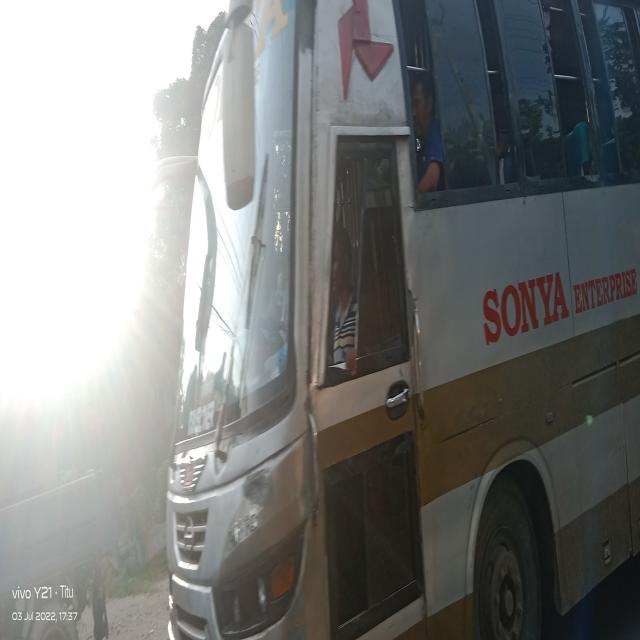bus: (162, 0, 640, 640)
